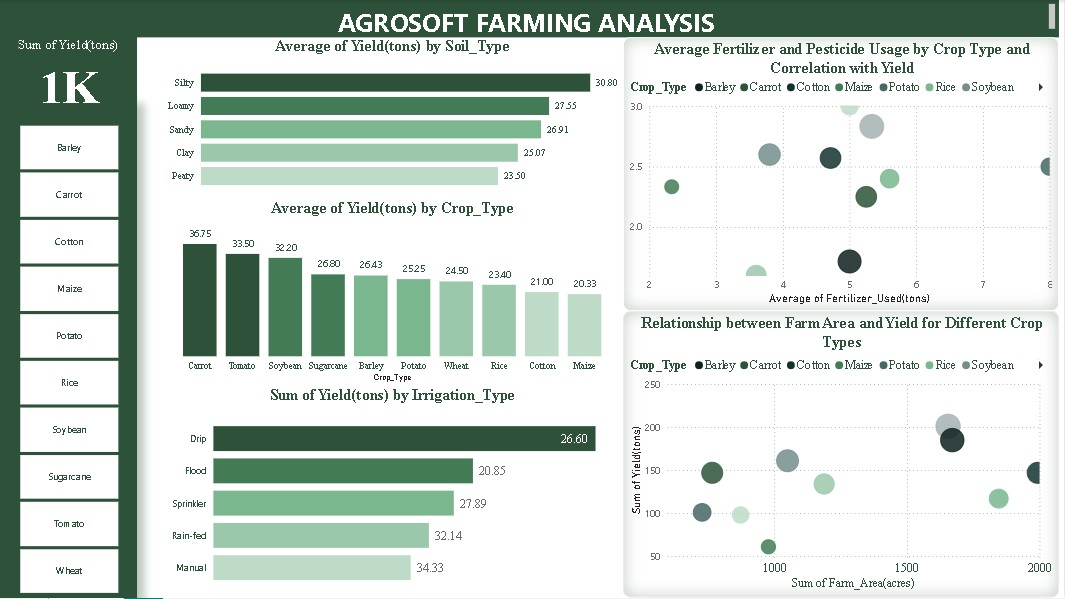

This screenshot's page, from the dashboard's own definition file:
{"tool":"powerbi","page":{"name":"Page 1","canvas":[1366,768],"ordinal":0},"visuals":[{"type":"columnChart","fields":{"Category":["agriculture_dataset.Crop_Type"],"Y":["Avg(agriculture_dataset.Yield(tons))"]},"box":[208,256,592,240],"z":0},{"type":"textbox","box":[0,0,1360,48],"z":1000},{"type":"barChart","fields":{"Category":["agriculture_dataset.Irrigation_Type"],"Y":["Sum(agriculture_dataset.Yield(tons))"]},"box":[208,496,592,272],"z":2000},{"type":"scatterChart","title":"Relationship between Farm Area and Yield for Different Crop Types","fields":{"X":["Sum(agriculture_dataset.Farm_Area(acres))"],"Y":["Sum(agriculture_dataset.Yield(tons))"],"Series":["agriculture_dataset.Crop_Type"],"Size":["Sum(agriculture_dataset.Yield(tons))"]},"box":[800,400,560,368],"z":3000},{"type":"scatterChart","title":"Average Fertilizer and Pesticide Usage by Crop Type and Correlation with Yield","fields":{"X":["Avg(agriculture_dataset.Fertilizer_Used(tons))"],"Y":["Avg(agriculture_dataset.Pesticide_Used(kg))"],"Series":["agriculture_dataset.Crop_Type"],"Size":["Sum(agriculture_dataset.Yield(tons))"]},"box":[800,48,560,352],"z":4000},{"type":"barChart","fields":{"Category":["agriculture_dataset.Soil_Type"],"Y":["Avg(agriculture_dataset.Yield(tons))"]},"box":[208,48,592,208],"z":5000},{"type":"shape","box":[0,32,176,736],"z":5500},{"type":"cardVisual","fields":{"Data":["Sum(agriculture_dataset.Yield(tons))"]},"box":[0,32,176,112],"z":6000},{"type":"slicer","fields":{"Values":["agriculture_dataset.Crop_Type"]},"box":[0,128,176,640],"z":8000}]}

Visuals, with their boxes in screenshot pixels (x1, y1, x2, y2), scaled from the page's 1366x768 canvas onto the 1065x599 screenshot:
columnChart - agriculture_dataset.Crop_Type x Avg(agriculture_dataset.Yield(tons)): [162, 200, 624, 387]
textbox: [0, 0, 1060, 37]
barChart - agriculture_dataset.Irrigation_Type x Sum(agriculture_dataset.Yield(tons)): [162, 387, 624, 598]
"Relationship between Farm Area and Yield for Different Crop Types" scatterChart: [624, 312, 1060, 598]
"Average Fertilizer and Pesticide Usage by Crop Type and Correlation with Yield" scatterChart: [624, 37, 1060, 312]
barChart - agriculture_dataset.Soil_Type x Avg(agriculture_dataset.Yield(tons)): [162, 37, 624, 200]
shape: [0, 25, 137, 598]
cardVisual - Sum(agriculture_dataset.Yield(tons)): [0, 25, 137, 112]
slicer - agriculture_dataset.Crop_Type: [0, 100, 137, 598]
